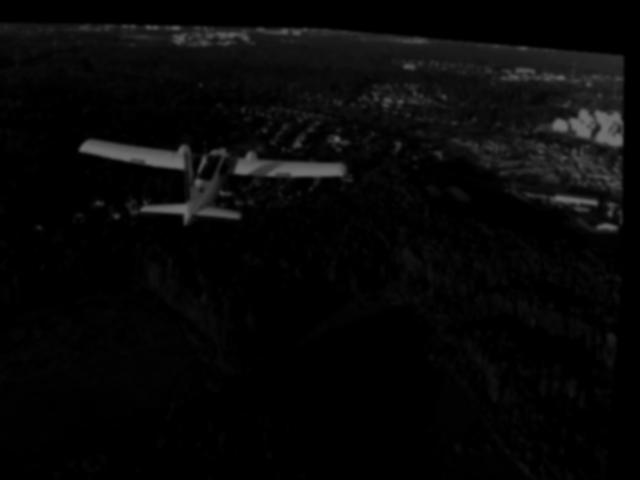hedef: (65, 104, 366, 251)
